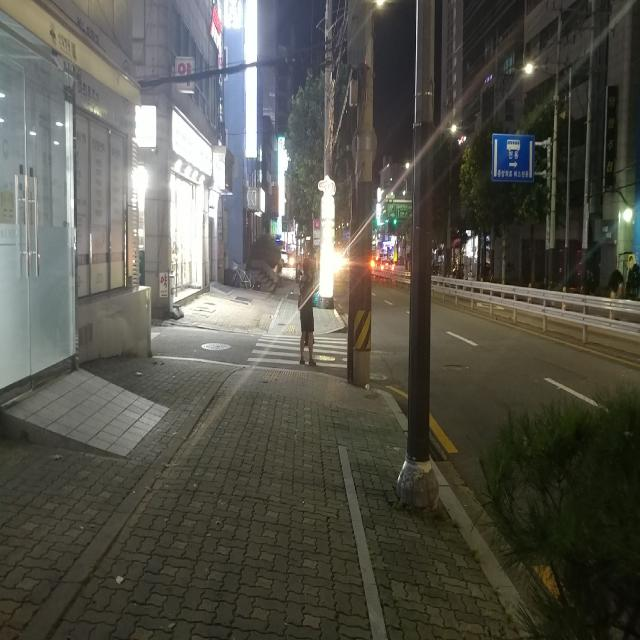횡단보도: (246, 333, 348, 369)
